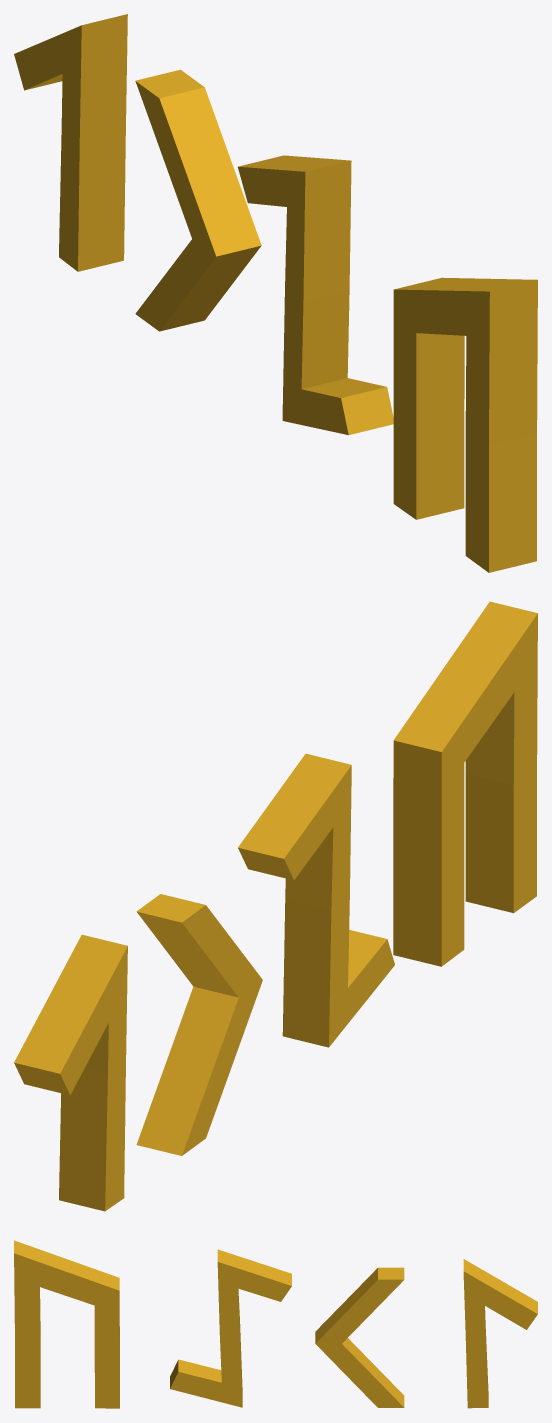
The model's file is Runes.fbx.
The picture shows the model from 3 angles, top to bottom: view 1: azimuth 30°, elevation 25°; view 2: azimuth 150°, elevation 25°; view 3: azimuth 270°, elevation 25°; orthographic projection. The views are drawn at different scales.
Parts seen in each view (by area): view 1: Cube.002, Cube.001, Cube.003, Cube; view 2: Cube.002, Cube.001, Cube.003, Cube; view 3: Cube.002, Cube.001, Cube, Cube.003.
Boxes of the visible parts, x1,y1,x2,y2 form: Cube.002: [393, 277, 537, 572]; Cube.001: [238, 155, 393, 435]; Cube.003: [14, 14, 127, 271]; Cube: [135, 69, 261, 331]; Cube.002: [393, 601, 537, 966]; Cube.001: [238, 753, 394, 1047]; Cube.003: [14, 934, 127, 1211]; Cube: [136, 894, 262, 1155]; Cube.002: [14, 1240, 119, 1408]; Cube.001: [170, 1249, 291, 1407]; Cube: [315, 1267, 404, 1407]; Cube.003: [463, 1259, 537, 1408].
Bounding box in the file's own units: 56.65 × 318 × 972.
